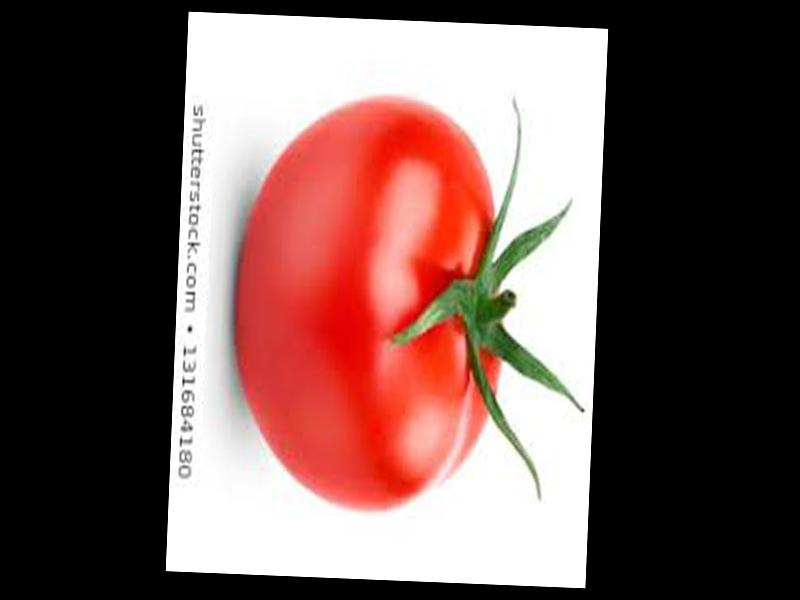Tomato: (231, 92, 509, 517)
